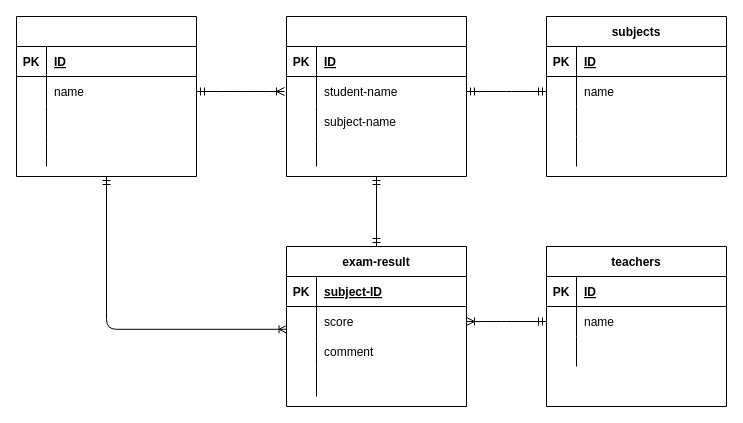
This 743x423 diagram has some shape labels left out. Each missing label, with the box of its shape:
exams: (286, 16, 466, 176)
students: (16, 16, 196, 176)
